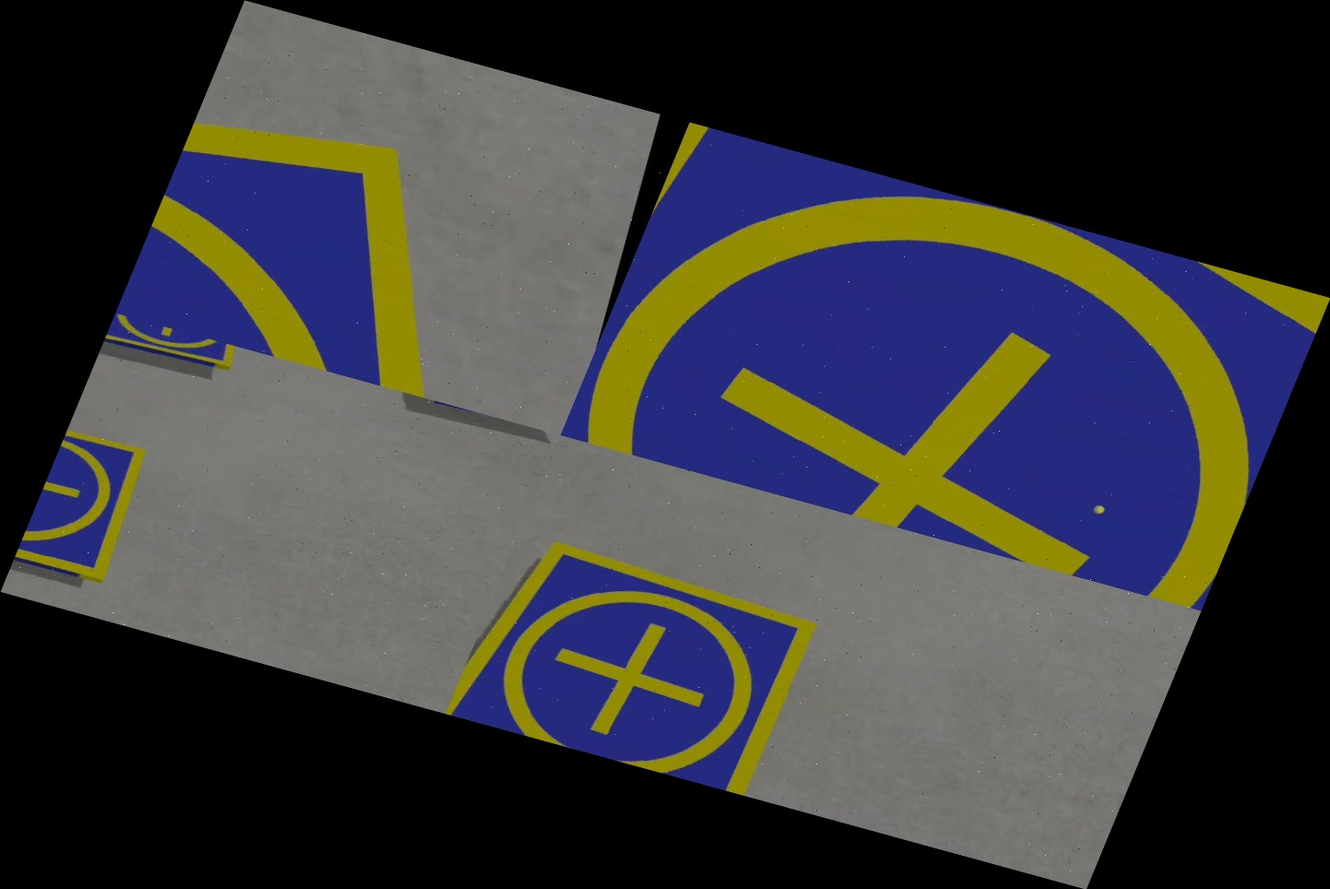small_base: (560, 123, 1329, 610), (115, 79, 609, 422), (445, 507, 861, 804), (3, 414, 175, 612), (100, 314, 243, 385)
